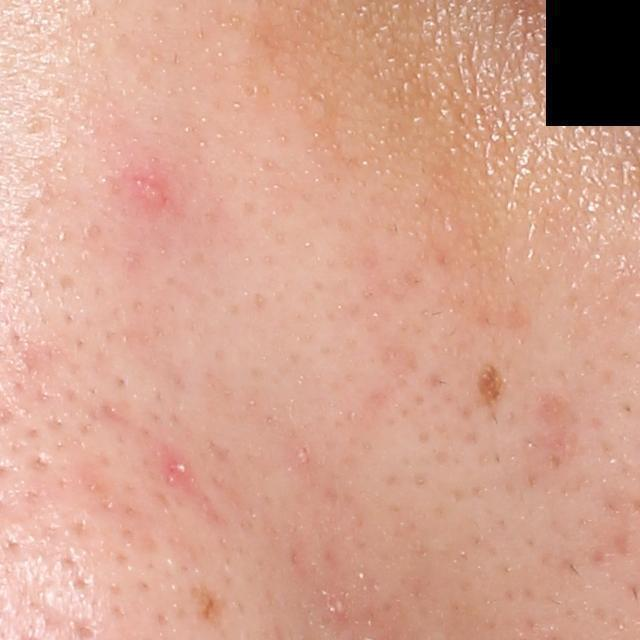nevus: (185, 577, 228, 630), (477, 356, 507, 412)
papule: (137, 177, 171, 210)
